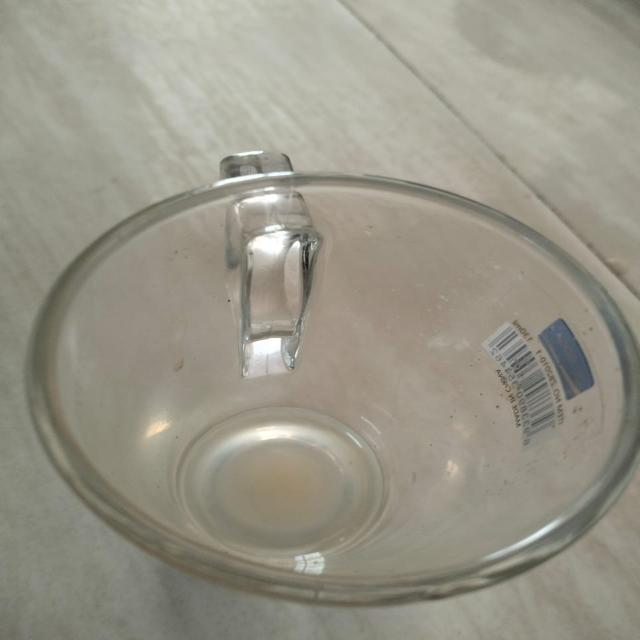glass-VX4N: (20, 152, 640, 608)
